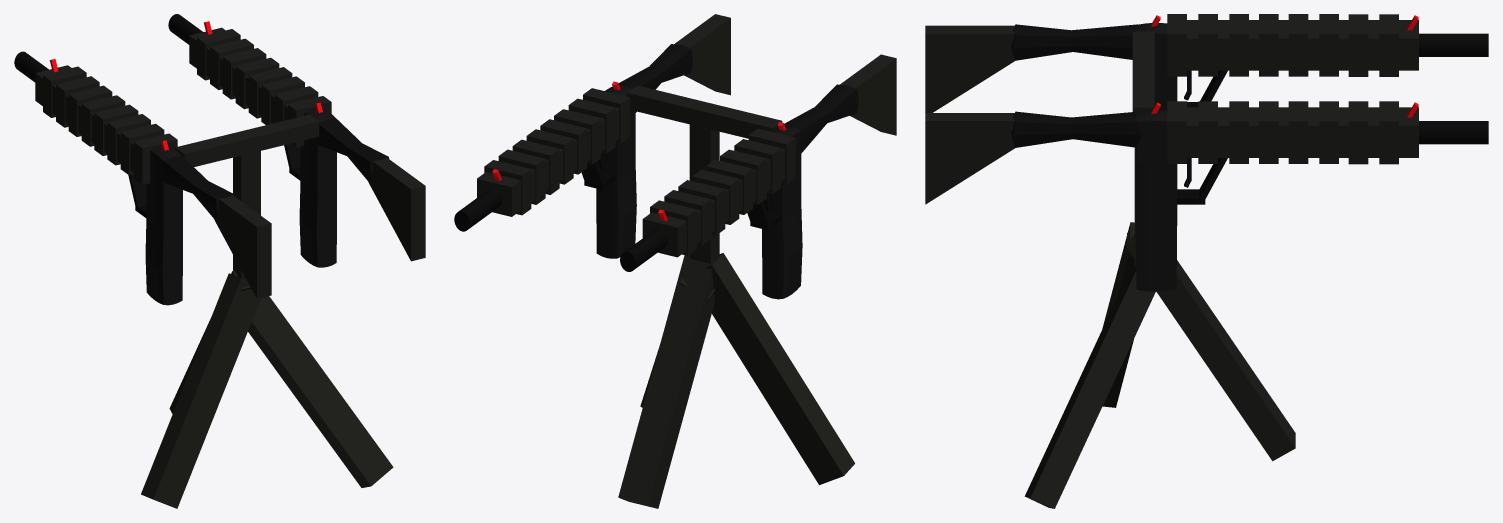
The model's file is Autogeschütz.fbx.
3 renders of one model, left to right at view 1: azimuth 30°, elevation 25°; view 2: azimuth 150°, elevation 25°; view 3: azimuth 270°, elevation 25°, orthographic. The views are drawn at different scales.
Parts seen in each view (by area): view 1: Cube.045, Cube.046, Cube.004, Cube.025, Cube.003, Cube.024, Cube, Cube.011, Cube.031, Cube.043, Cube.012, Cube.032 (+18 smaller); view 2: Cube.044, Cube.045, Cube.004, Cube.025, Cube, Cube.003, Cube.024, Cube.032, Cube.012, Cube.011, Cube.043, Cube.031 (+18 smaller); view 3: Cube.046, Cube.044, Cube.025, Cube.003, Cube.024, Cube.012, Cube.032, Cube.031, Cube.011, Cube, Cube.010, Cube.030 (+18 smaller).
Boxes of the visible parts, x1=… form: Cube.045: x1=141, y1=273, x2=260, y2=508; Cube.046: x1=248, y1=296, x2=393, y2=487; Cube.004: x1=145, y1=145, x2=182, y2=305; Cube.025: x1=299, y1=107, x2=336, y2=267; Cube.003: x1=214, y1=194, x2=271, y2=298; Cube.024: x1=368, y1=156, x2=425, y2=261; Cube: x1=175, y1=114, x2=319, y2=166; Cube.011: x1=161, y1=155, x2=234, y2=220; Cube.031: x1=316, y1=118, x2=389, y2=183; Cube.043: x1=233, y1=151, x2=260, y2=299; Cube.012: x1=35, y1=65, x2=161, y2=172; Cube.032: x1=189, y1=27, x2=314, y2=123; Cube.044: x1=618, y1=255, x2=717, y2=508; Cube.045: x1=704, y1=253, x2=854, y2=485; Cube.004: x1=762, y1=126, x2=802, y2=299; Cube.025: x1=596, y1=85, x2=636, y2=258; Cube: x1=627, y1=85, x2=782, y2=138; Cube.003: x1=838, y1=54, x2=896, y2=135; Cube.024: x1=673, y1=14, x2=730, y2=95; Cube.032: x1=477, y1=100, x2=619, y2=216; Cube.012: x1=642, y1=140, x2=784, y2=257; Cube.011: x1=784, y1=84, x2=858, y2=153; Cube.043: x1=689, y1=124, x2=719, y2=263; Cube.031: x1=618, y1=44, x2=692, y2=112; Cube.046: x1=1024, y1=266, x2=1155, y2=508; Cube.044: x1=1127, y1=232, x2=1295, y2=461; Cube.025: x1=1135, y1=110, x2=1177, y2=291; Cube.003: x1=925, y1=25, x2=1017, y2=112; Cube.024: x1=925, y1=113, x2=1017, y2=204; Cube.012: x1=1187, y1=20, x2=1418, y2=70; Cube.032: x1=1187, y1=107, x2=1418, y2=157; Cube.031: x1=1011, y1=111, x2=1140, y2=147; Cube.011: x1=1011, y1=24, x2=1137, y2=60; Cube: x1=1132, y1=31, x2=1154, y2=111; Cube.010: x1=1419, y1=33, x2=1488, y2=56; Cube.030: x1=1419, y1=121, x2=1488, y2=144.
Size of the model in its own units: 389 by 603 by 757.
